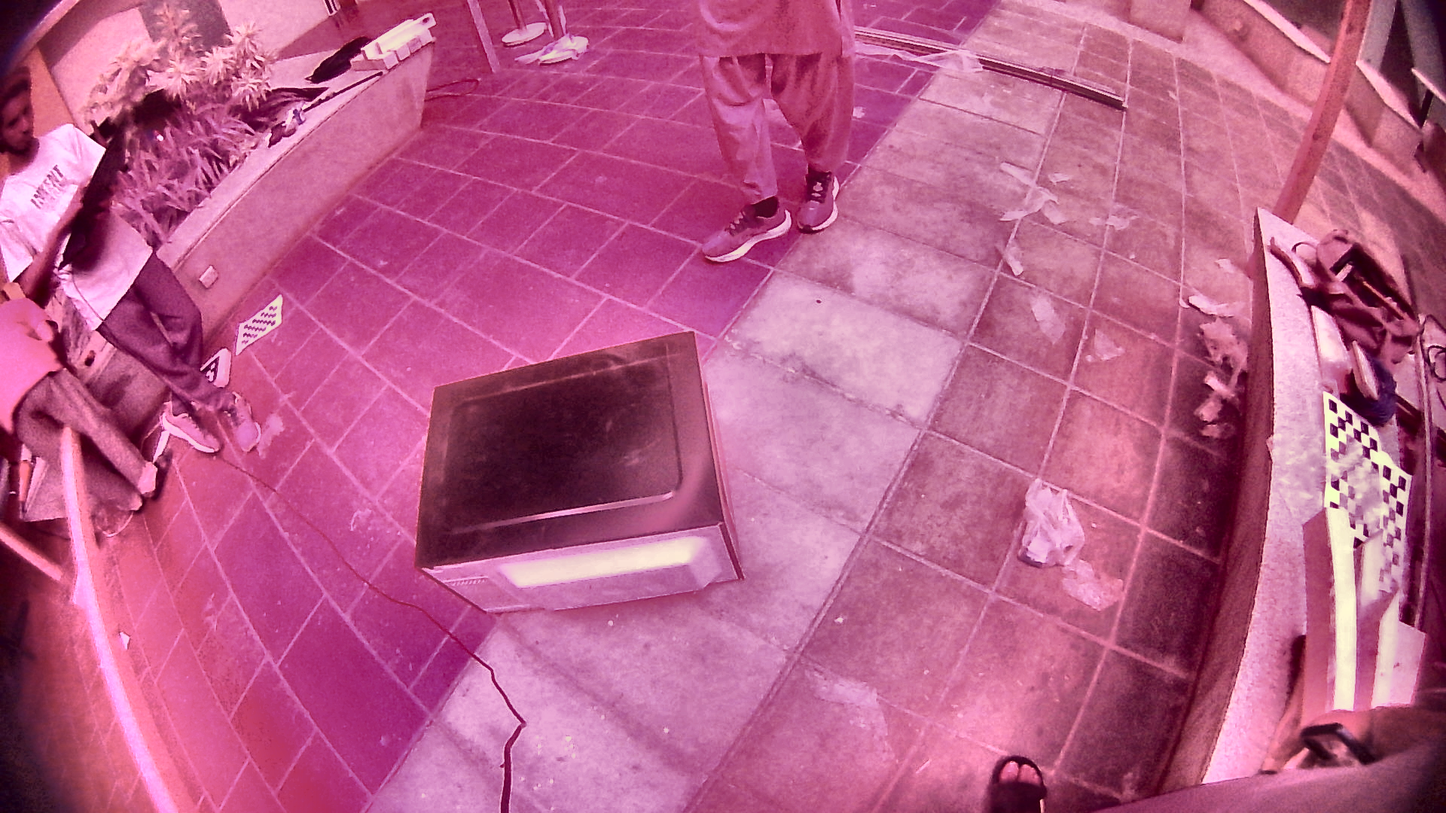MicroWave: (397, 314, 782, 629)
